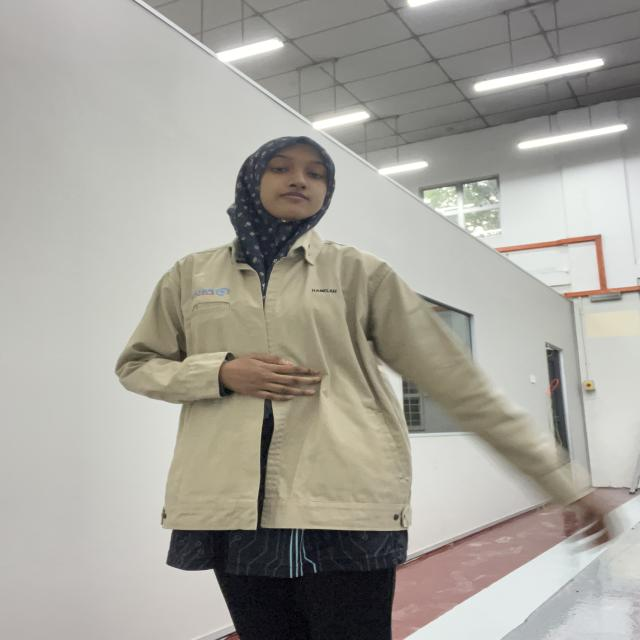person_with_labcoat: (116, 137, 610, 640)
